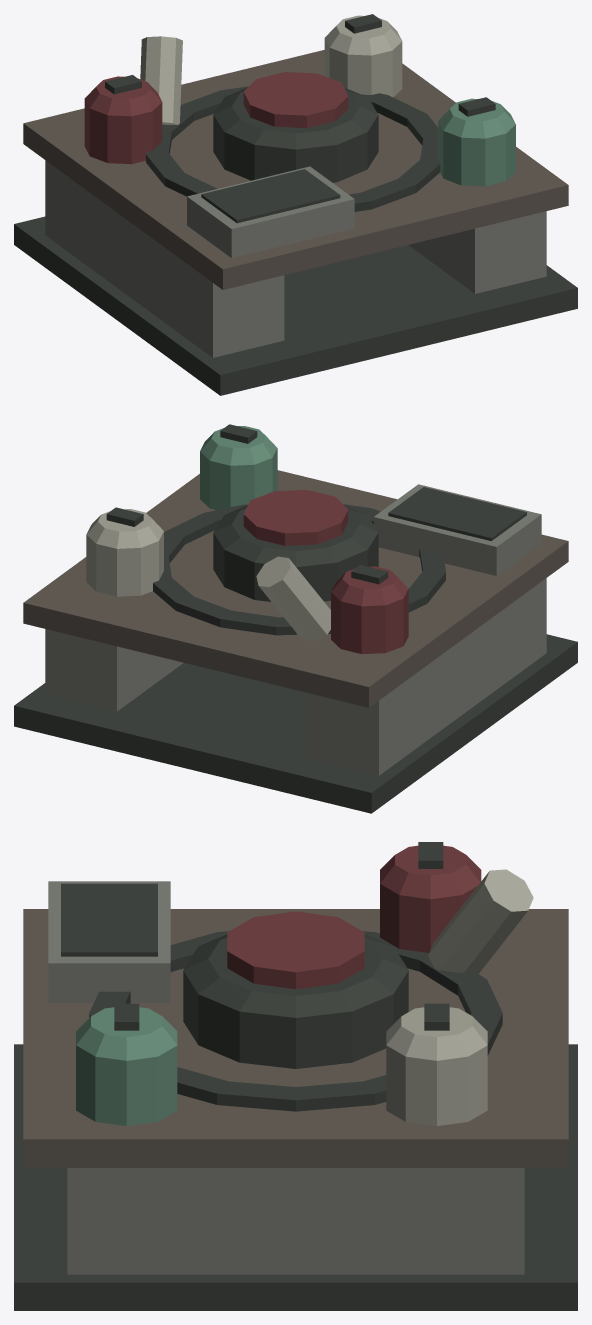
Rendered from serum_lab.obj.
3 renders of one model, top to bottom at view 1: azimuth 30°, elevation 25°; view 2: azimuth 150°, elevation 25°; view 3: azimuth 270°, elevation 25°, orthographic. The views are drawn at different scales.
Parts seen in each view (by area): view 1: serum_lab; view 2: serum_lab; view 3: serum_lab.
Boxes of the visible parts, x1=… form: serum_lab: x1=14, y1=14, x2=577, y2=395; serum_lab: x1=14, y1=424, x2=577, y2=813; serum_lab: x1=14, y1=842, x2=577, y2=1310.
Bounding box in the file's own units: 1.8 × 0.9815 × 1.8.
